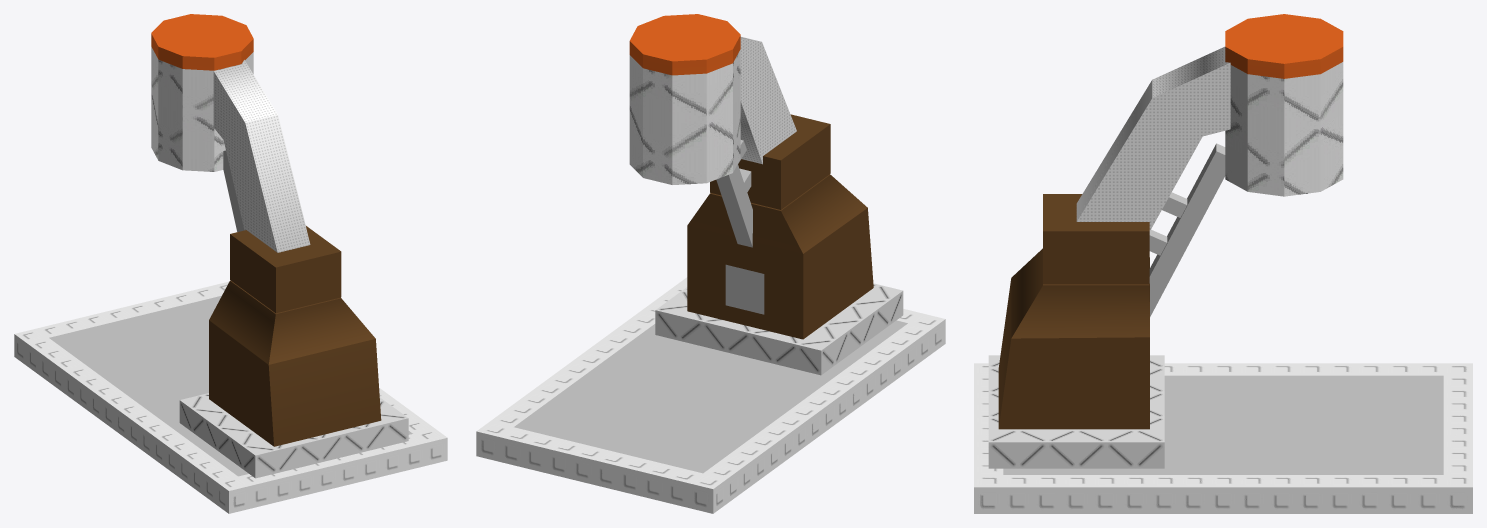
The picture shows the model from 3 angles, left to right: view 1: azimuth 30°, elevation 25°; view 2: azimuth 150°, elevation 25°; view 3: azimuth 270°, elevation 25°; orthographic projection. The views are drawn at different scales.
Parts seen in each view (by area): view 1: di1; view 2: di1; view 3: di1.
Part boxes in pixels (left/top/right/bottom): di1: left=14, top=14, right=447, bottom=513; di1: left=476, top=14, right=945, bottom=513; di1: left=974, top=14, right=1472, bottom=513.
Size of the model in its own units: 353 by 547 by 600.
